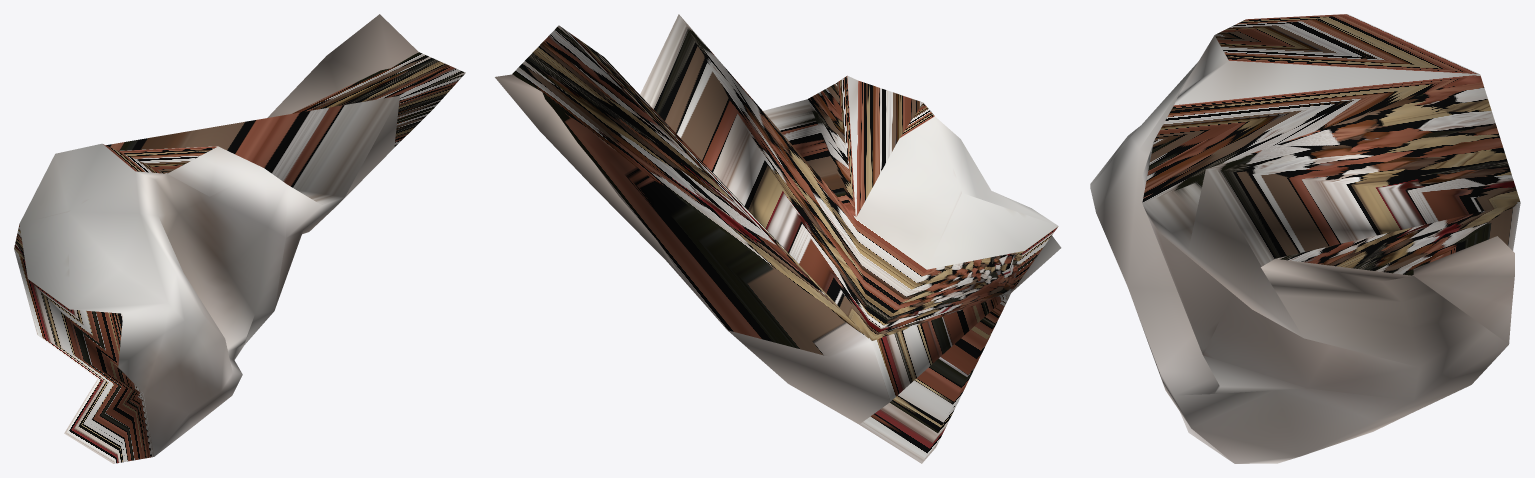
File: brazoDer.obj
The picture shows the model from 3 angles, left to right: view 1: azimuth 30°, elevation 25°; view 2: azimuth 150°, elevation 25°; view 3: azimuth 270°, elevation 25°; orthographic projection. The views are drawn at different scales.
Visible parts, largest first — view 1: brazoDer; view 2: brazoDer; view 3: brazoDer.
Boxes of the visible parts, <box> form: brazoDer: <box>14,14,465,463</box>; brazoDer: <box>495,14,1061,463</box>; brazoDer: <box>1090,14,1520,463</box>.
Size of the model in its own units: 0.1294 by 0.0913 by 0.0728.
1 material, 1 textured.
